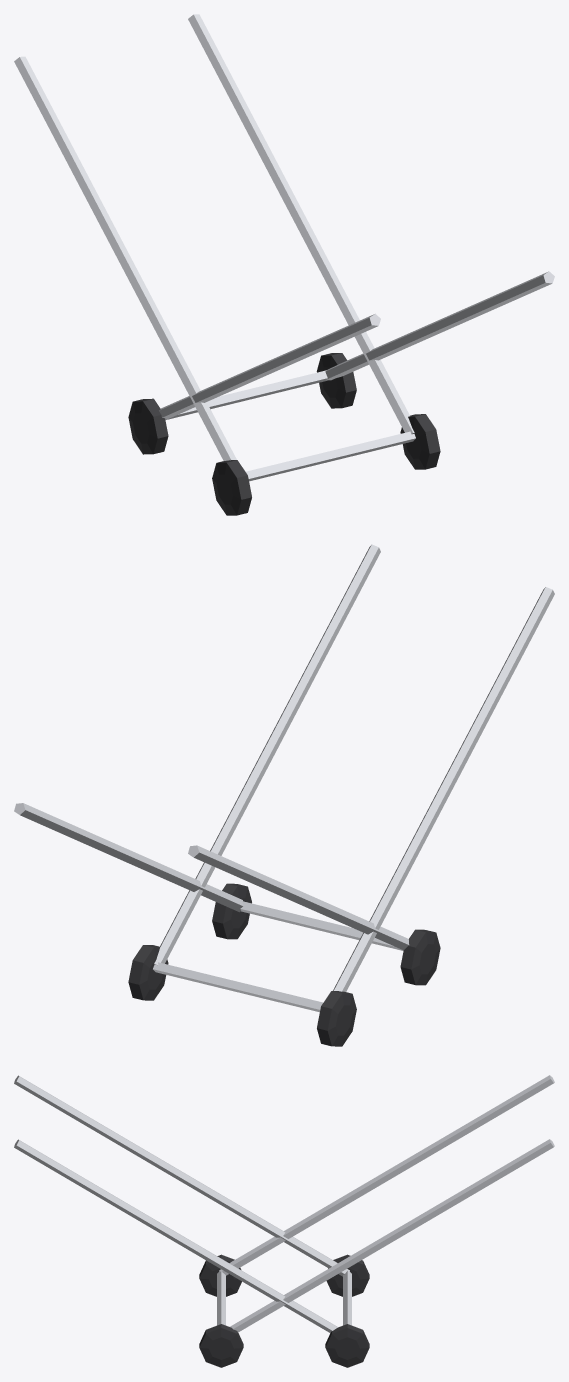
Rendered from GurneyLegs.obj.
3 views of the same model, one above another, from view 1: azimuth 30°, elevation 25°; view 2: azimuth 150°, elevation 25°; view 3: azimuth 270°, elevation 25° (orthographic). The views are drawn at different scales.
Visible parts, largest first — view 1: GurneyLegs; view 2: GurneyLegs; view 3: GurneyLegs.
Part boxes in pixels (left/top/right/bottom): GurneyLegs: left=14, top=14, right=554, bottom=515; GurneyLegs: left=14, top=544, right=554, bottom=1046; GurneyLegs: left=14, top=1075, right=554, bottom=1367.
Size of the model in its own units: 0.56 by 0.7828 by 1.72.
Materials: 1 (1 with a texture image).
